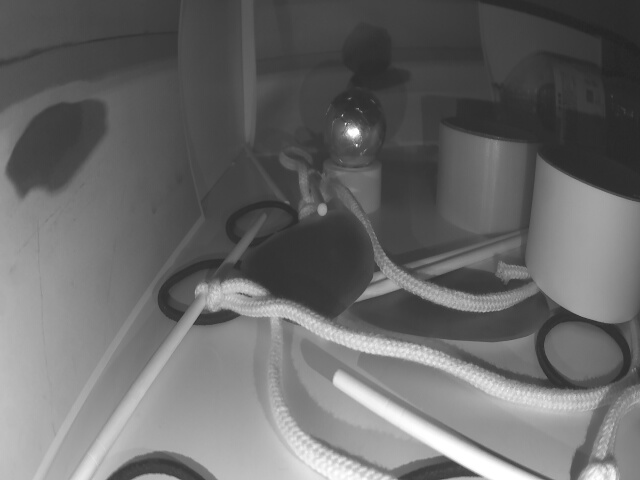Live: (325, 93, 389, 169)
